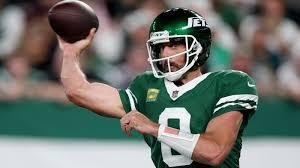americanFootball: (47, 0, 100, 40)
